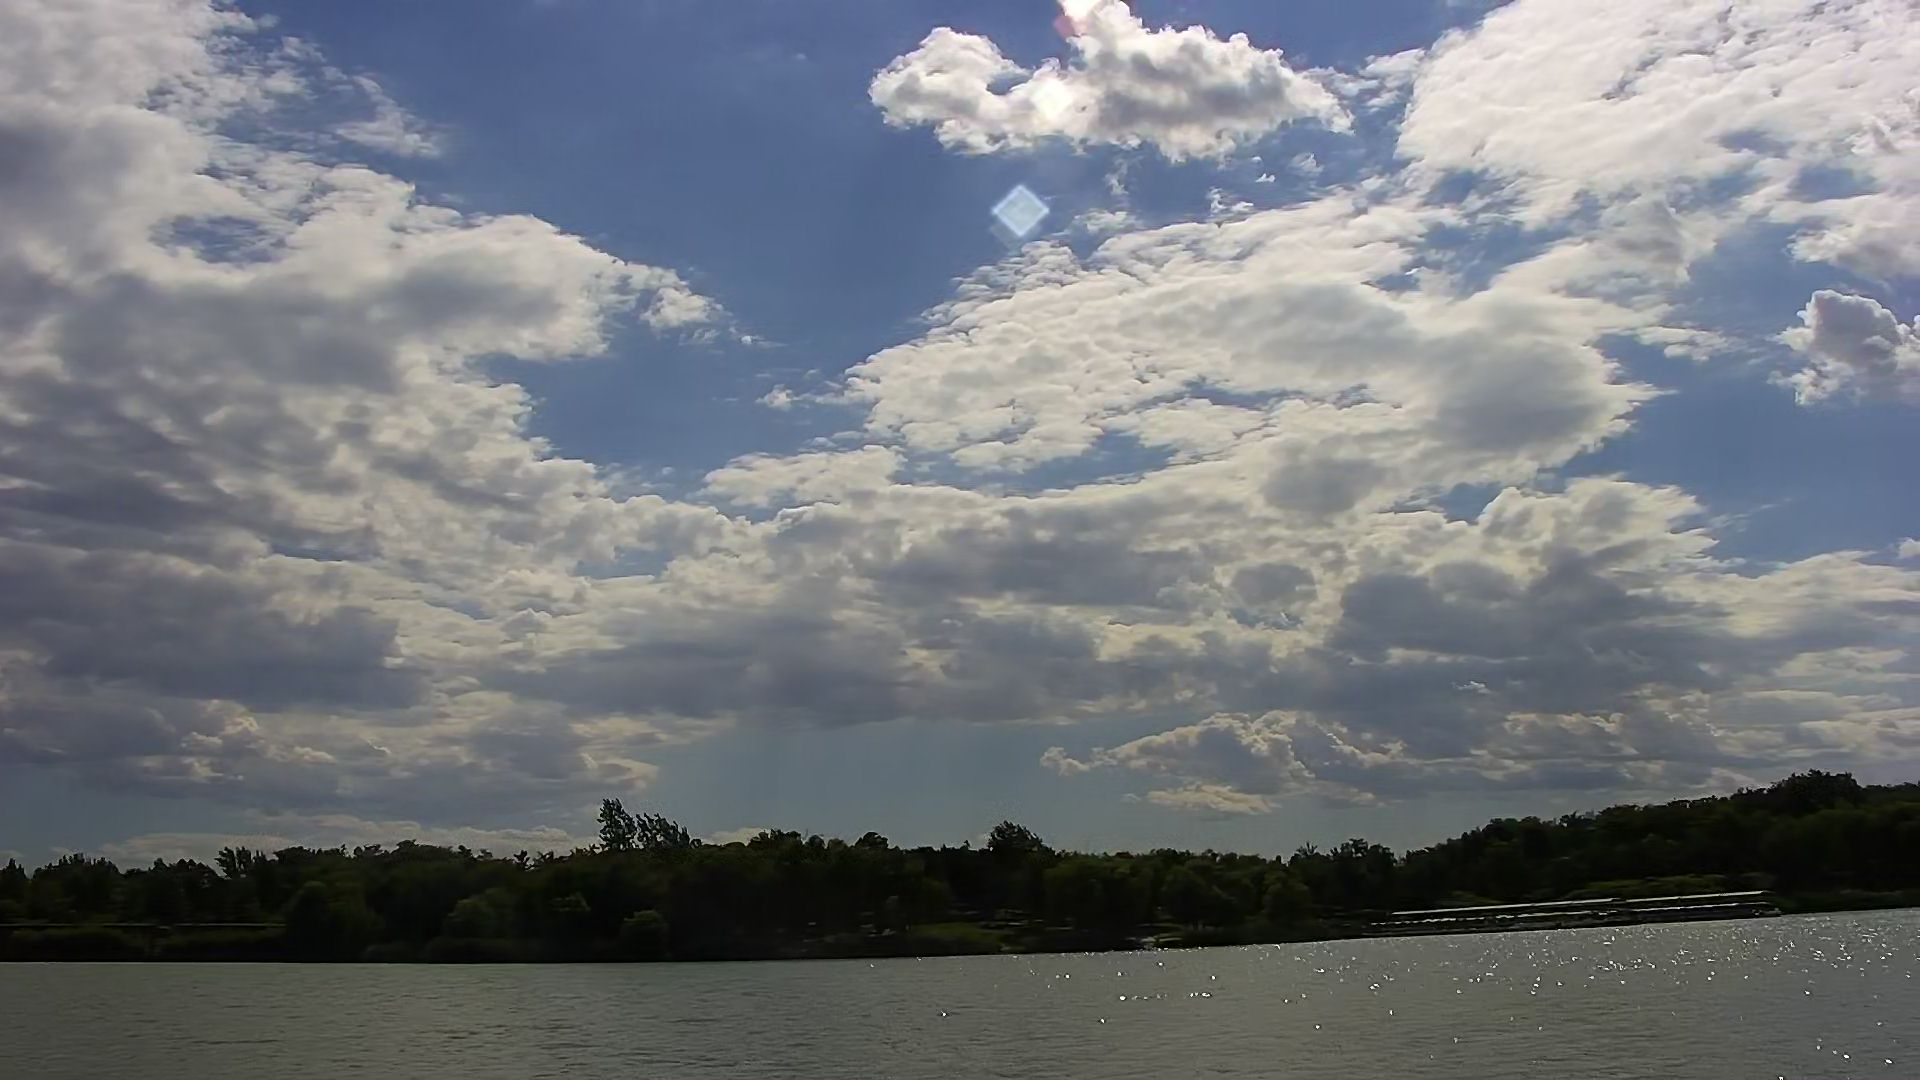harbor: (1352, 876, 1800, 945)
